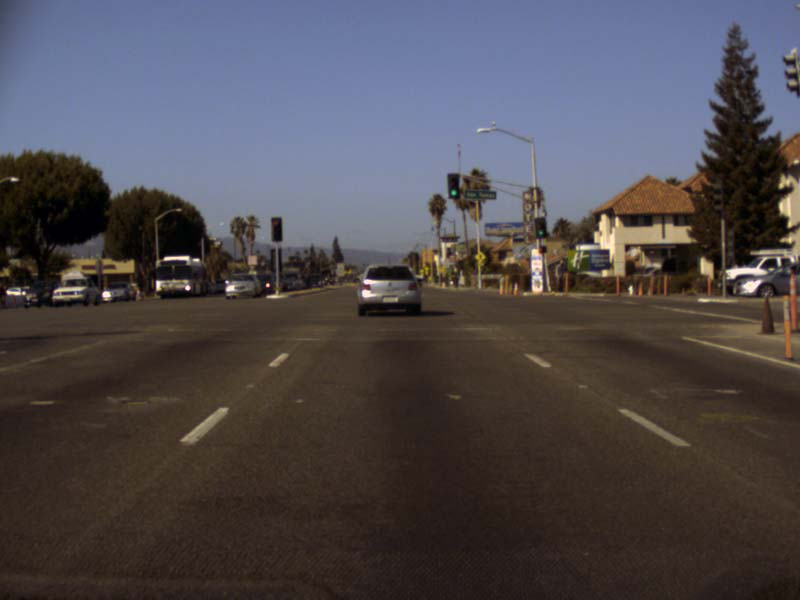Green: (447, 172, 459, 198), (534, 218, 546, 238)
Red: (270, 217, 283, 240)
